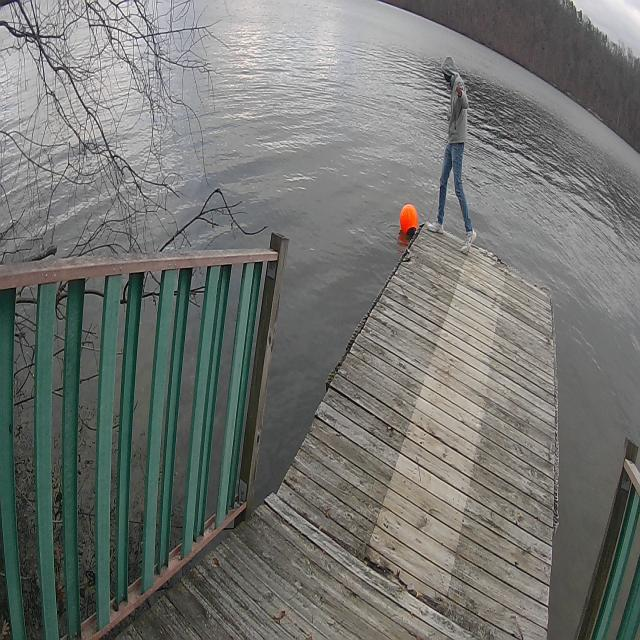Buoy: (399, 198, 419, 244)
